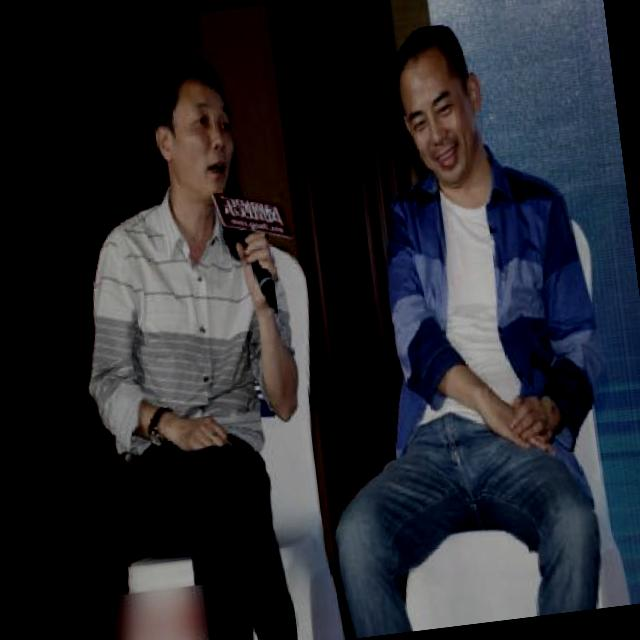Person: (253, 0, 628, 639), (33, 14, 364, 640)
